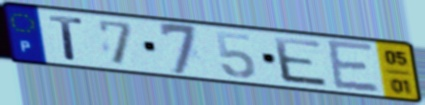5: (213, 29, 258, 80)
7: (156, 20, 201, 77), (97, 18, 135, 67)
E: (270, 35, 332, 89), (324, 38, 383, 94)
T: (46, 13, 86, 63)
